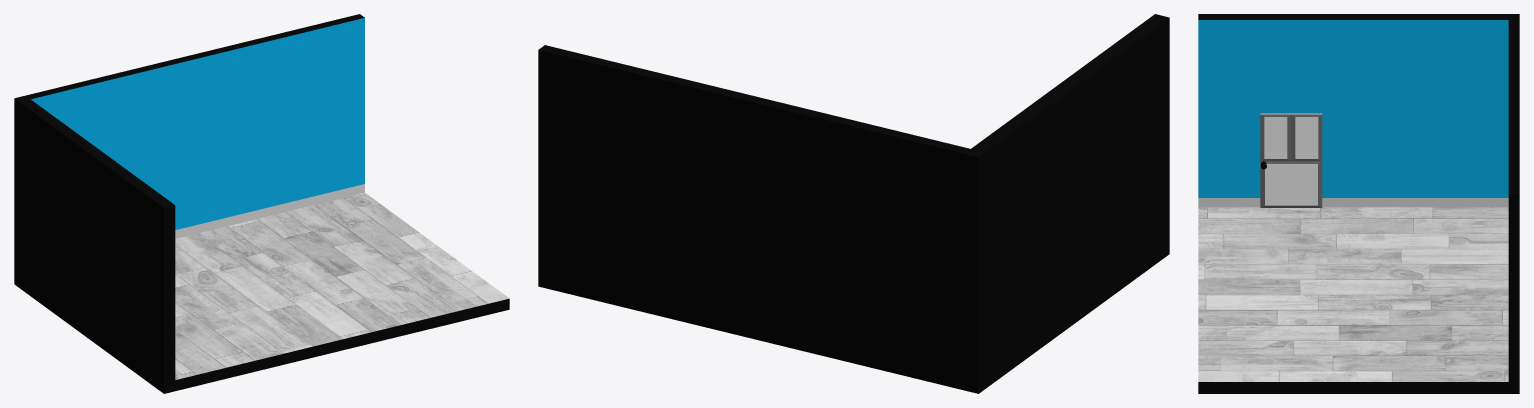
Rendered from BedroomBaseA.glb.
3 renders of one model, left to right at view 1: azimuth 30°, elevation 25°; view 2: azimuth 150°, elevation 25°; view 3: azimuth 270°, elevation 25°, orthographic. The views are drawn at different scales.
Parts seen in each view (by area): view 1: Room; view 2: Room; view 3: Room, Door.
Part boxes in pixels (box(x1,y1,x2,y2)): Room: box(14, 14, 509, 393); Room: box(538, 14, 1169, 393); Room: box(1198, 14, 1519, 393); Door: box(1260, 113, 1322, 207).
Size of the model in its own units: 4.13 by 2.12 by 3.1.
7 materials, 1 textured.
